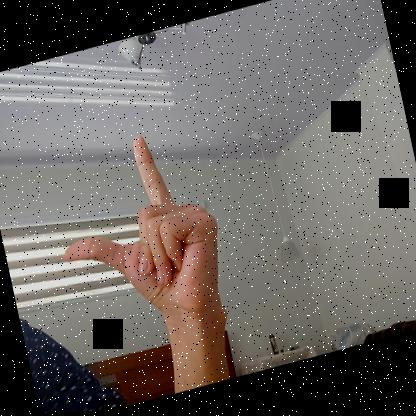L: (43, 120, 233, 352)
